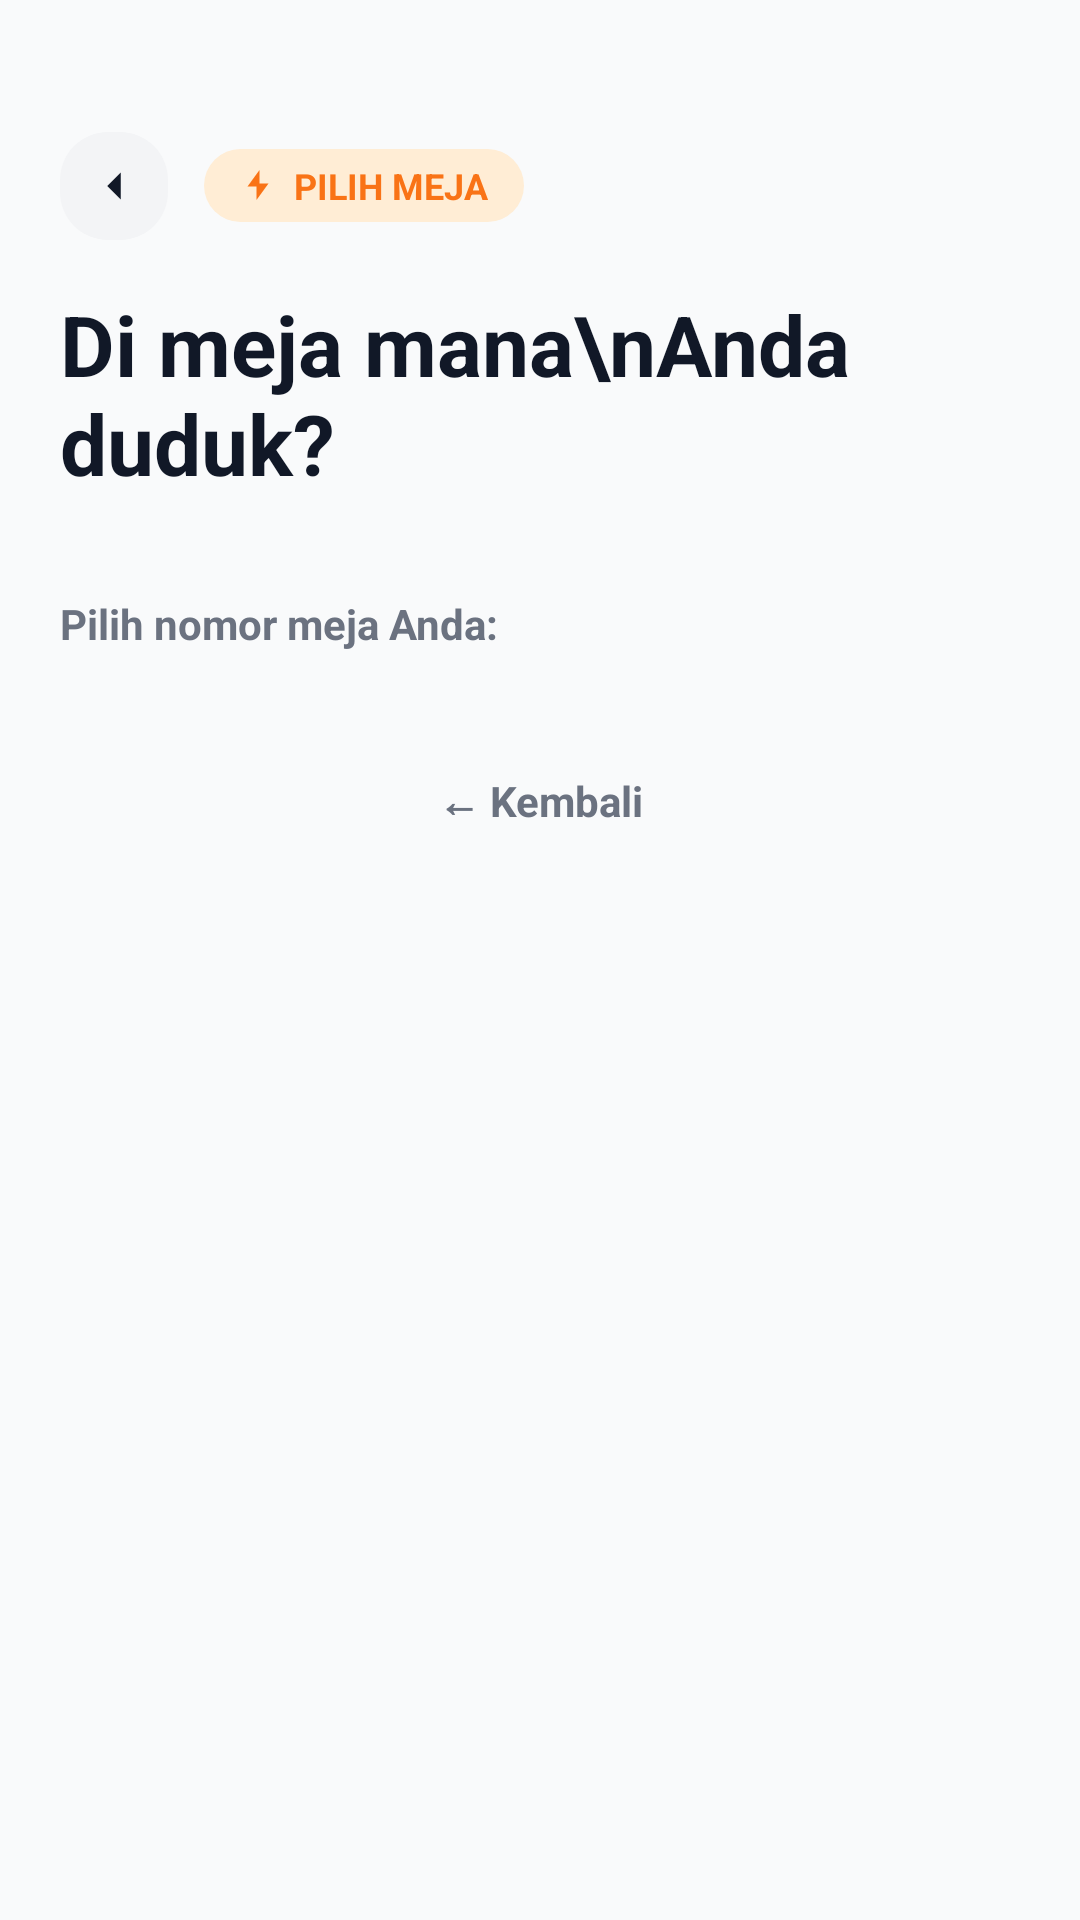

Where to tap for icons on this 1080*1920 app screen, as point (x, y):
arrow left: point (114, 186)
zap: point (258, 185)
